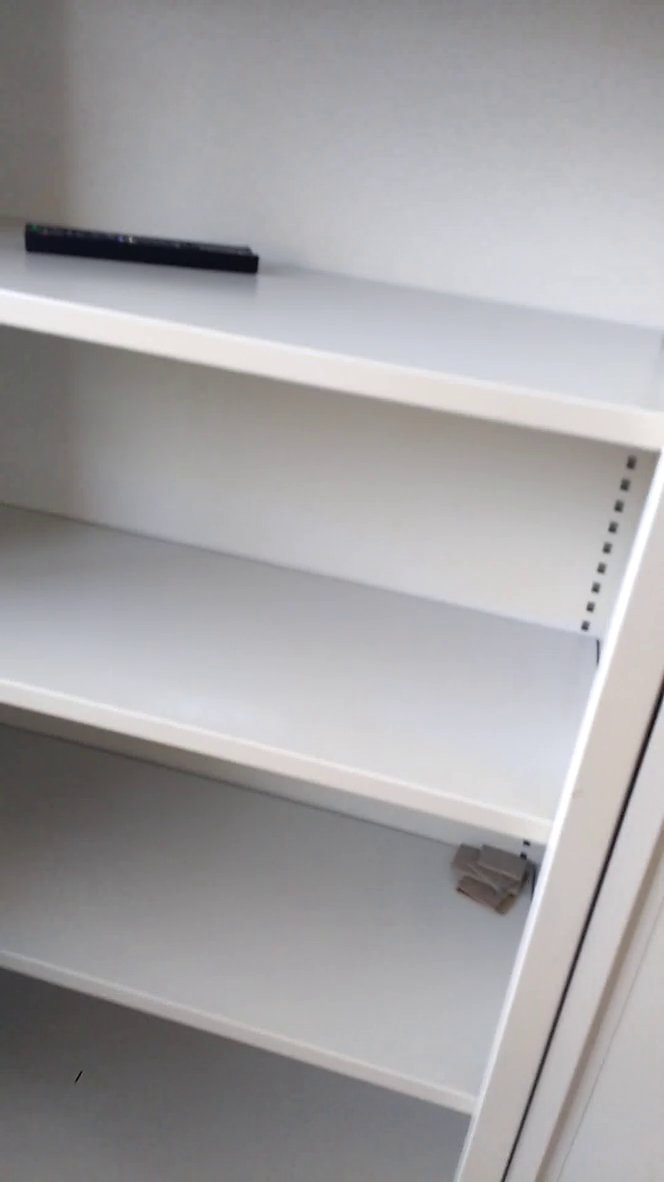remote: (12, 207, 270, 292)
